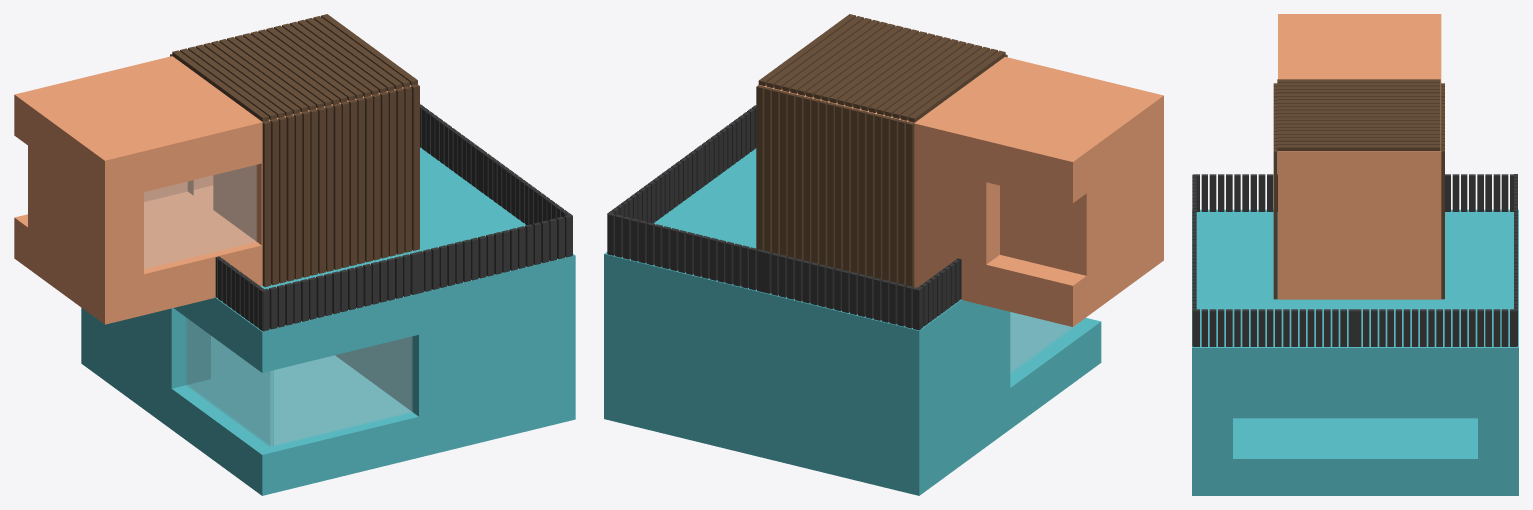
The model's file is home_2_center.glb.
The picture shows the model from 3 angles, left to right: view 1: azimuth 30°, elevation 25°; view 2: azimuth 150°, elevation 25°; view 3: azimuth 270°, elevation 25°; orthographic projection. The views are drawn at different scales.
Visible parts, largest first — view 1: Module_Cube_2x2x1, Module_L_Shape.003, Module_Wood_Slats.001, Module_Wood_Slats.002, Module_L_Shape_Window.007, Module_L_Shape_Window.003, Module_Wood_railings.002, Module_Wood_railings.003, Module_L_Shape_Window.006, Module_Wood_railings.004, Module_Wood_railings.005, Module_Wood_railings.009; view 2: Module_Cube_2x2x1, Module_L_Shape.003, Module_Wood_Slats.003, Module_Wood_Slats.002, Module_Wood_railings.007, Module_Wood_railings.006, Module_Wood_railings.005, Module_Wood_railings.004, Module_L_Shape_Window.006, Module_Wood_railings.008; view 3: Module_Cube_2x2x1, Module_L_Shape.003, Module_Wood_Slats.002, Module_Wood_railings.005, Module_Wood_railings.004, Module_Wood_railings.009, Module_Wood_railings.008, Module_Wood_Slats.001, Module_Wood_Slats.003, Module_Wood_railings.003.
Boxes of the visible parts, <box> form: Module_Cube_2x2x1: <box>81,147,575,495</box>; Module_L_Shape.003: <box>14,56,411,324</box>; Module_Wood_Slats.001: <box>262,84,419,286</box>; Module_Wood_Slats.002: <box>172,14,417,121</box>; Module_L_Shape_Window.007: <box>273,337,412,445</box>; Module_L_Shape_Window.003: <box>144,165,256,269</box>; Module_Wood_railings.002: <box>261,252,418,331</box>; Module_Wood_railings.003: <box>416,214,572,293</box>; Module_L_Shape_Window.006: <box>186,318,271,446</box>; Module_Wood_railings.004: <box>479,150,572,255</box>; Module_Wood_railings.005: <box>420,104,483,190</box>; Module_Wood_railings.009: <box>215,256,264,331</box>; Module_Cube_2x2x1: <box>604,148,1101,495</box>; Module_L_Shape.003: <box>757,57,1163,326</box>; Module_Wood_Slats.003: <box>756,85,914,287</box>; Module_Wood_Slats.002: <box>758,14,1005,122</box>; Module_Wood_railings.007: <box>763,251,921,330</box>; Module_Wood_railings.006: <box>607,212,765,292</box>; Module_Wood_railings.005: <box>607,148,700,223</box>; Module_Wood_railings.004: <box>697,105,756,188</box>; Module_L_Shape_Window.006: <box>1010,312,1080,372</box>; Module_Wood_railings.008: <box>916,258,961,327</box>; Module_Cube_2x2x1: <box>1192,209,1518,495</box>; Module_L_Shape.003: <box>1278,14,1441,299</box>; Module_Wood_Slats.002: <box>1277,79,1440,151</box>; Module_Wood_railings.005: <box>1354,309,1516,346</box>; Module_Wood_railings.004: <box>1193,309,1354,346</box>; Module_Wood_railings.009: <box>1193,174,1277,211</box>; Module_Wood_railings.008: <box>1445,174,1516,211</box>; Module_Wood_Slats.001: <box>1273,83,1277,299</box>; Module_Wood_Slats.003: <box>1441,83,1444,299</box>; Module_Wood_railings.003: <box>1192,242,1196,346</box>.
Bounding box in the file's own units: 5.4 × 4.05 × 4.
